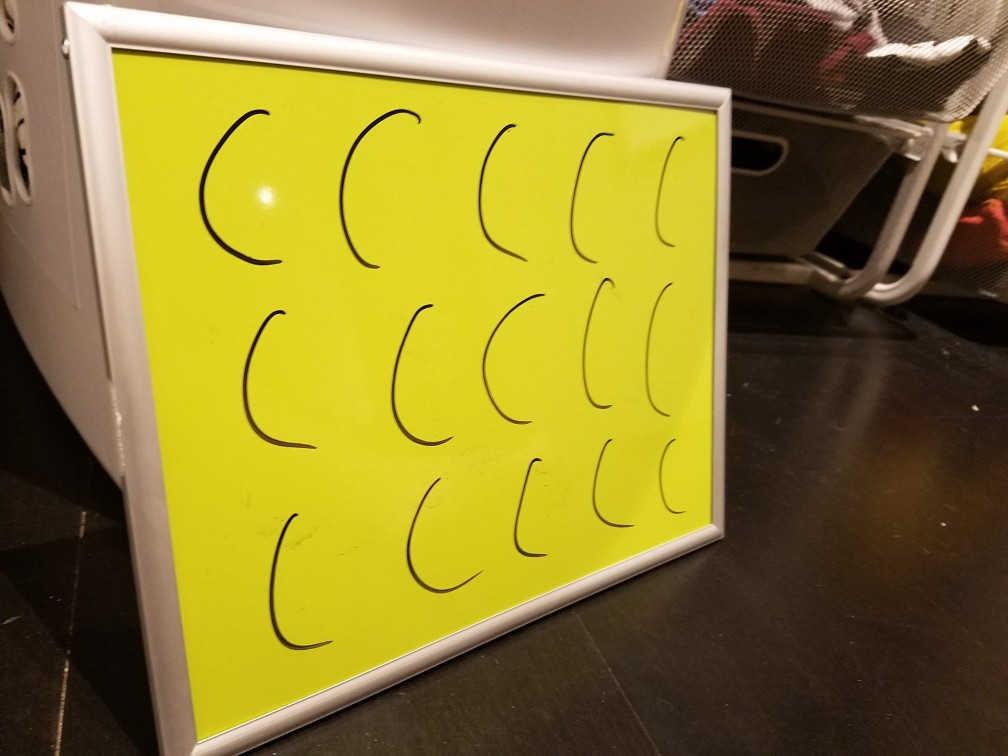(: (164, 91, 297, 281), (217, 303, 347, 468), (329, 88, 428, 274), (245, 495, 341, 662), (459, 110, 538, 270), (386, 295, 463, 454), (395, 471, 489, 601), (476, 287, 556, 429), (560, 115, 623, 266), (640, 116, 700, 253), (571, 275, 622, 423), (640, 271, 686, 426), (507, 446, 553, 576), (589, 433, 636, 540), (652, 433, 691, 517)
